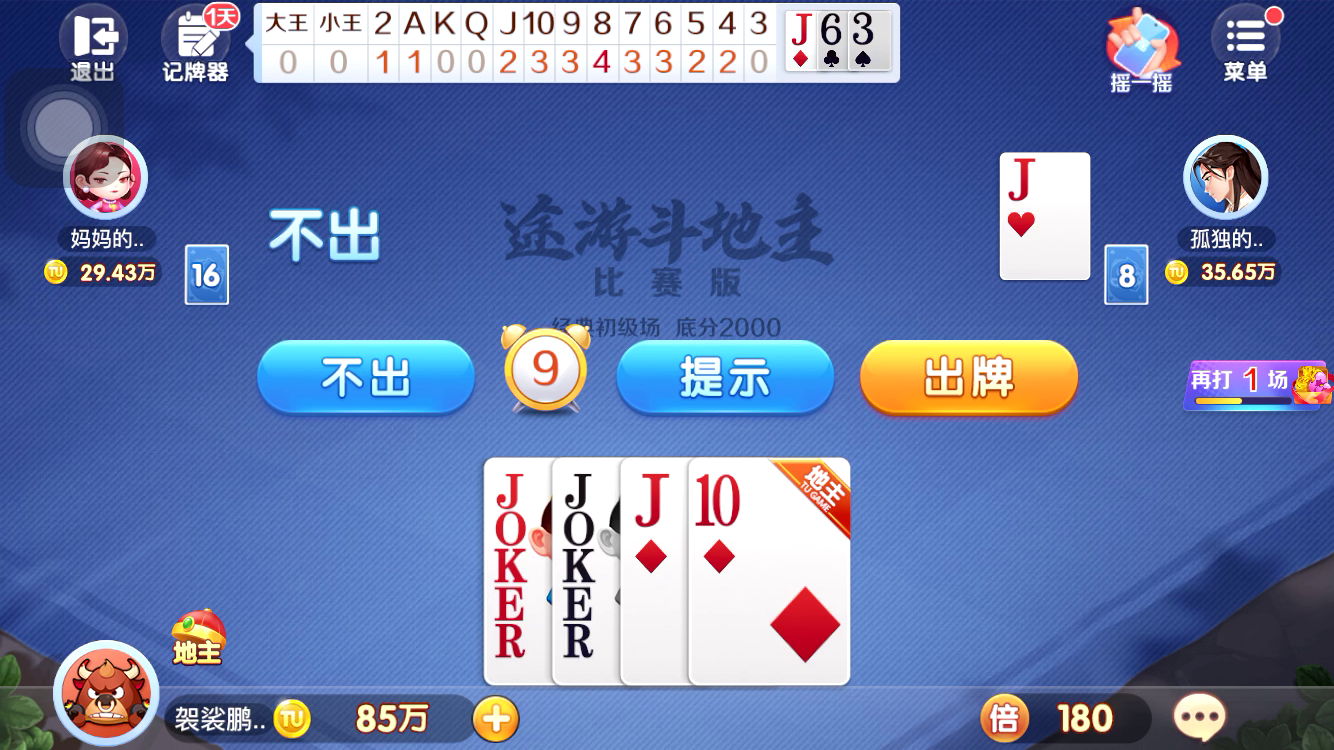J: (623, 461, 681, 535), (998, 151, 1047, 207), (784, 7, 814, 46)
JOKER: (479, 458, 547, 595)
joker: (555, 465, 607, 593)
six: (817, 9, 846, 47)
ten: (690, 464, 751, 537)
three: (846, 10, 877, 48)
